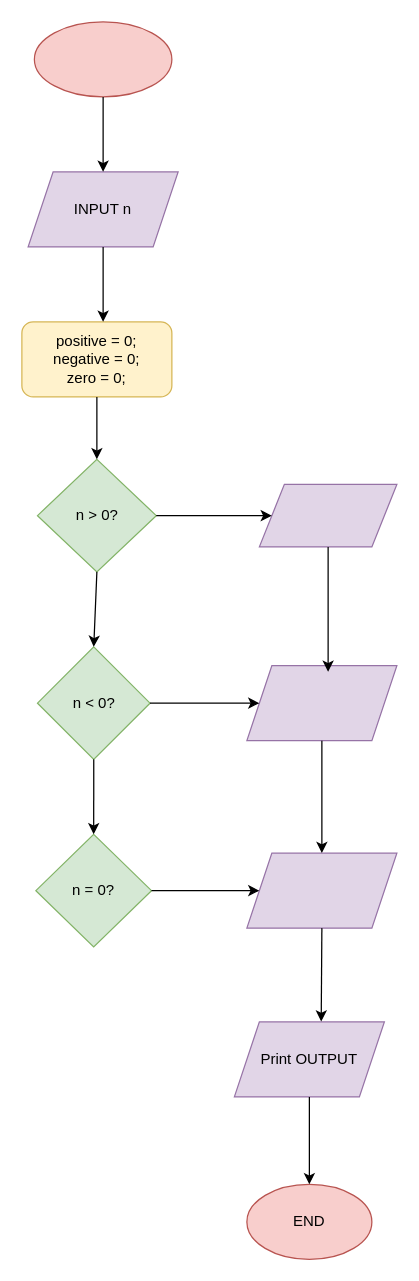
Image size: 419x1281. Some labels were removed from this diagram. The centre of each missing label's shape, as x and y in pixels:
"negative++" goes at pixel 321 702.
"positive++" goes at pixel 327 515.
"START" goes at pixel 102 59.
"zero++" goes at pixel 321 890.
